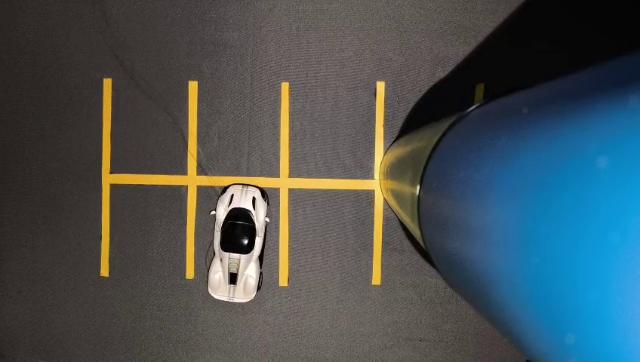toy_car: (191, 165, 288, 334)
